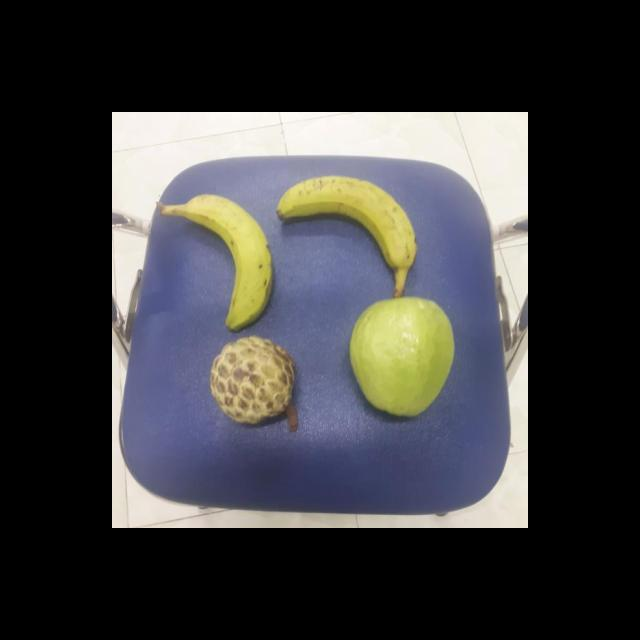Sakya fruit: (211, 332, 296, 423)
banana: (273, 176, 420, 292), (175, 188, 272, 332)
guava: (350, 295, 454, 417)
